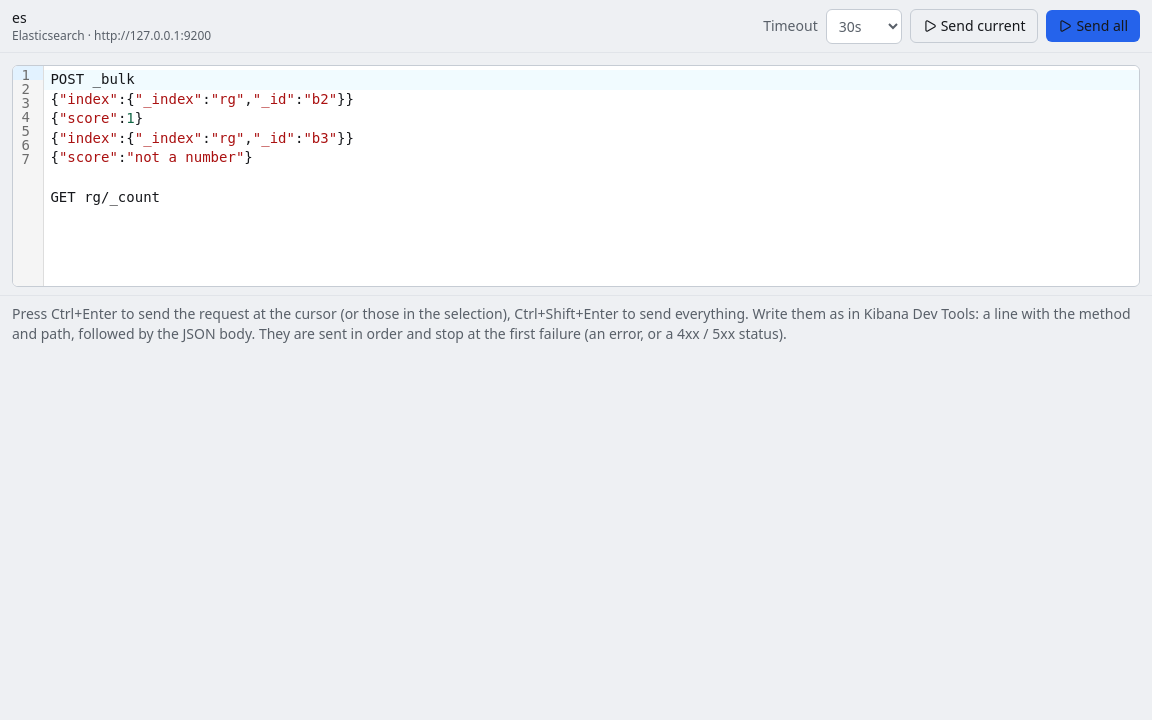
Scenario: EsConsole › 一批里有条目没写成：算失败，后面的不发，并且说清几条没成
Click the button "Send all" at [1093, 26], box left=1046, top=10, right=1140, bottom=42
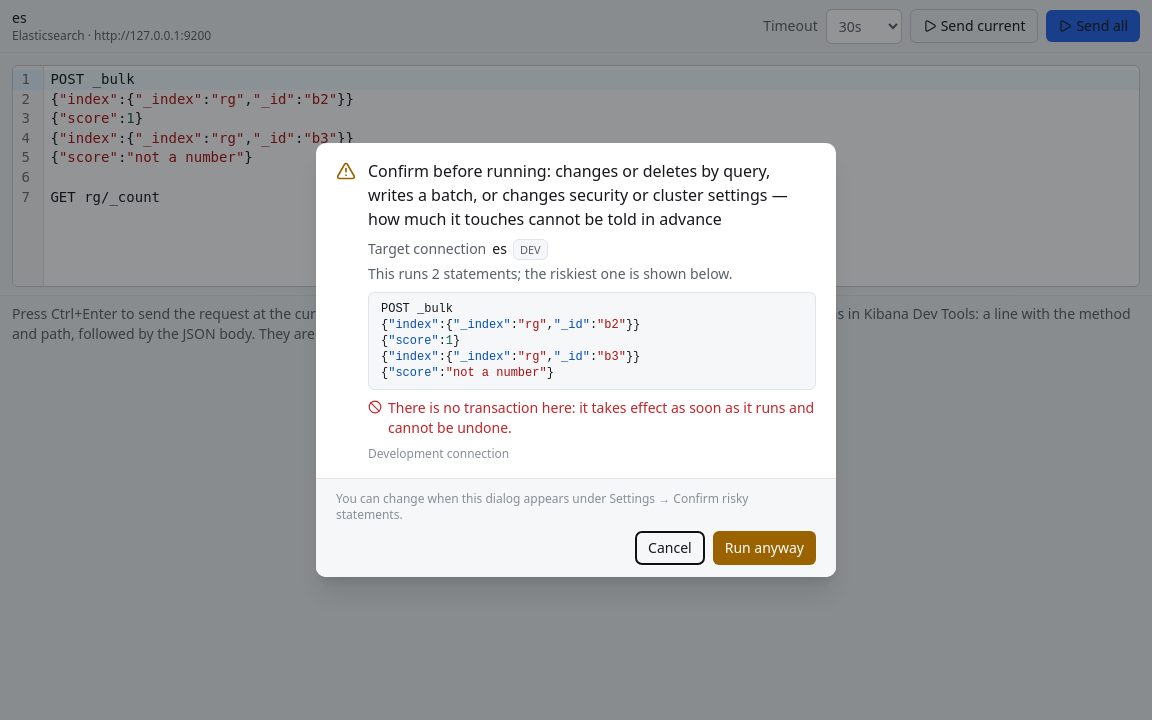
Click the button "Run anyway" at [764, 548], box left=713, top=531, right=816, bottom=565
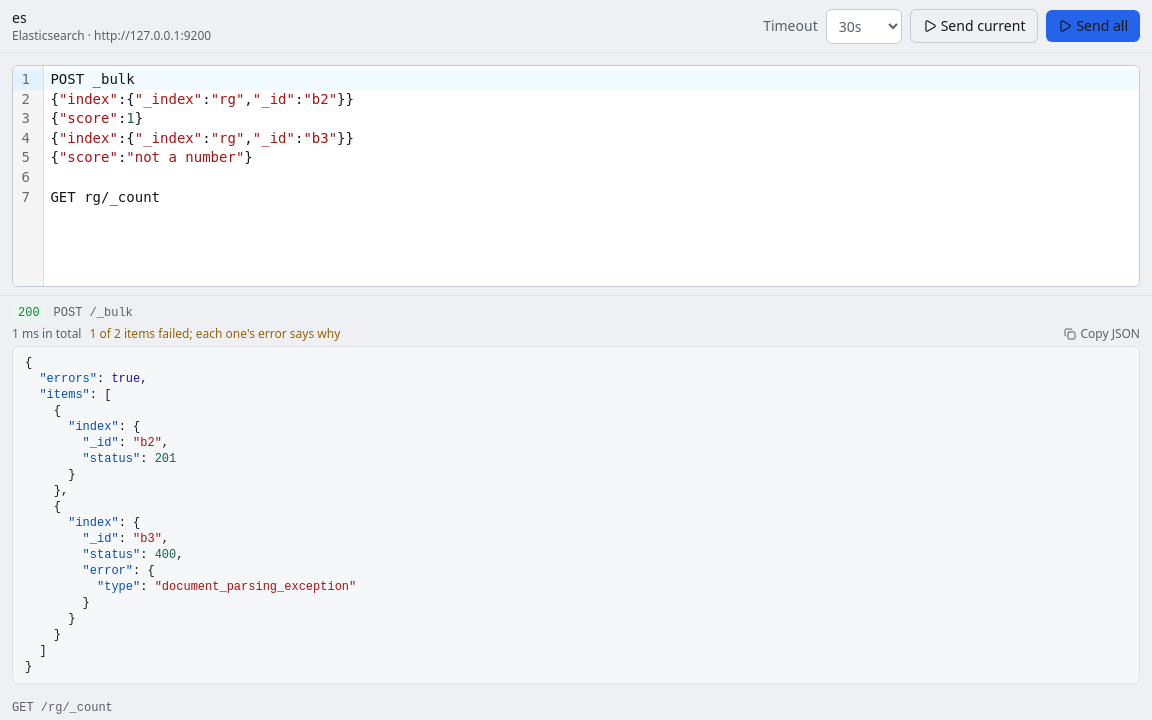
Now the text "1 of 2 items failed" is shown, box left=90, top=325, right=340, bottom=342
